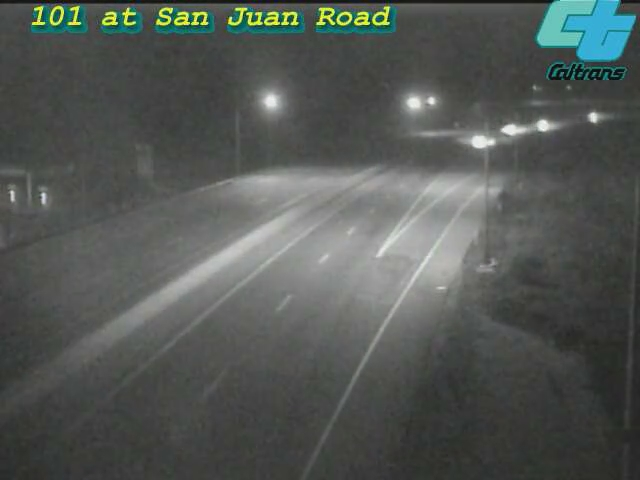vehicle: (568, 92, 618, 142), (519, 101, 569, 151), (488, 104, 538, 154), (456, 116, 506, 166)
